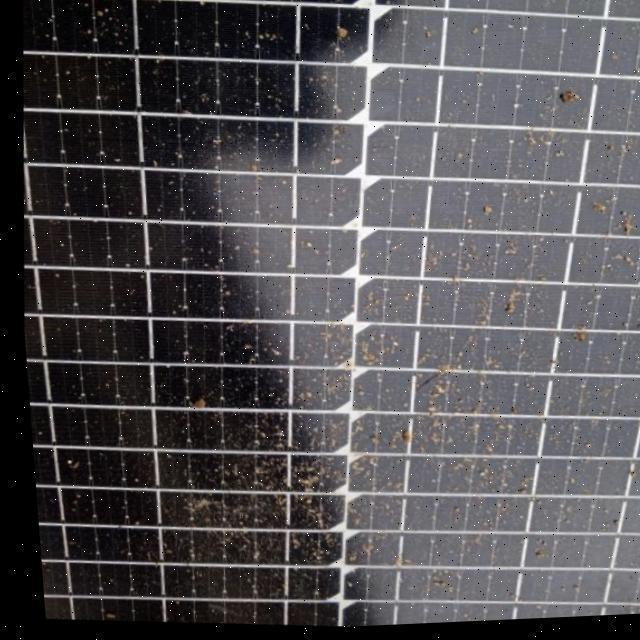Surface Contaminant: (18, 0, 637, 625)
